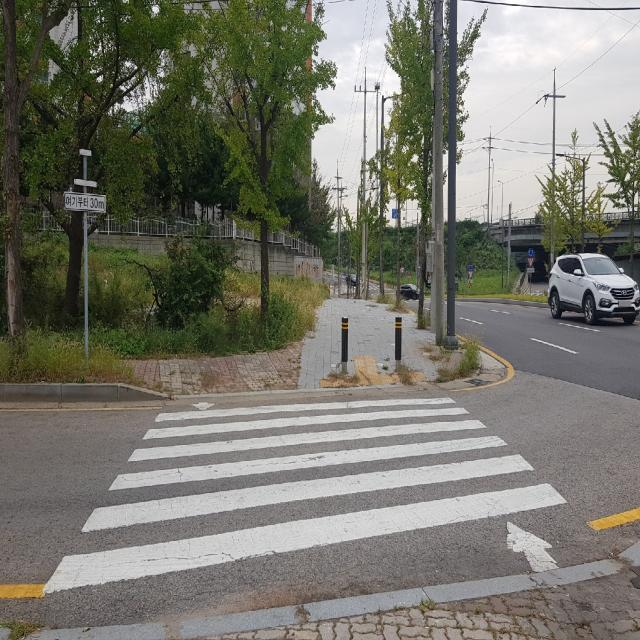횡단보도: (40, 391, 570, 597)
